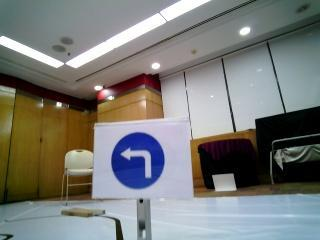left: (99, 130, 178, 189)
